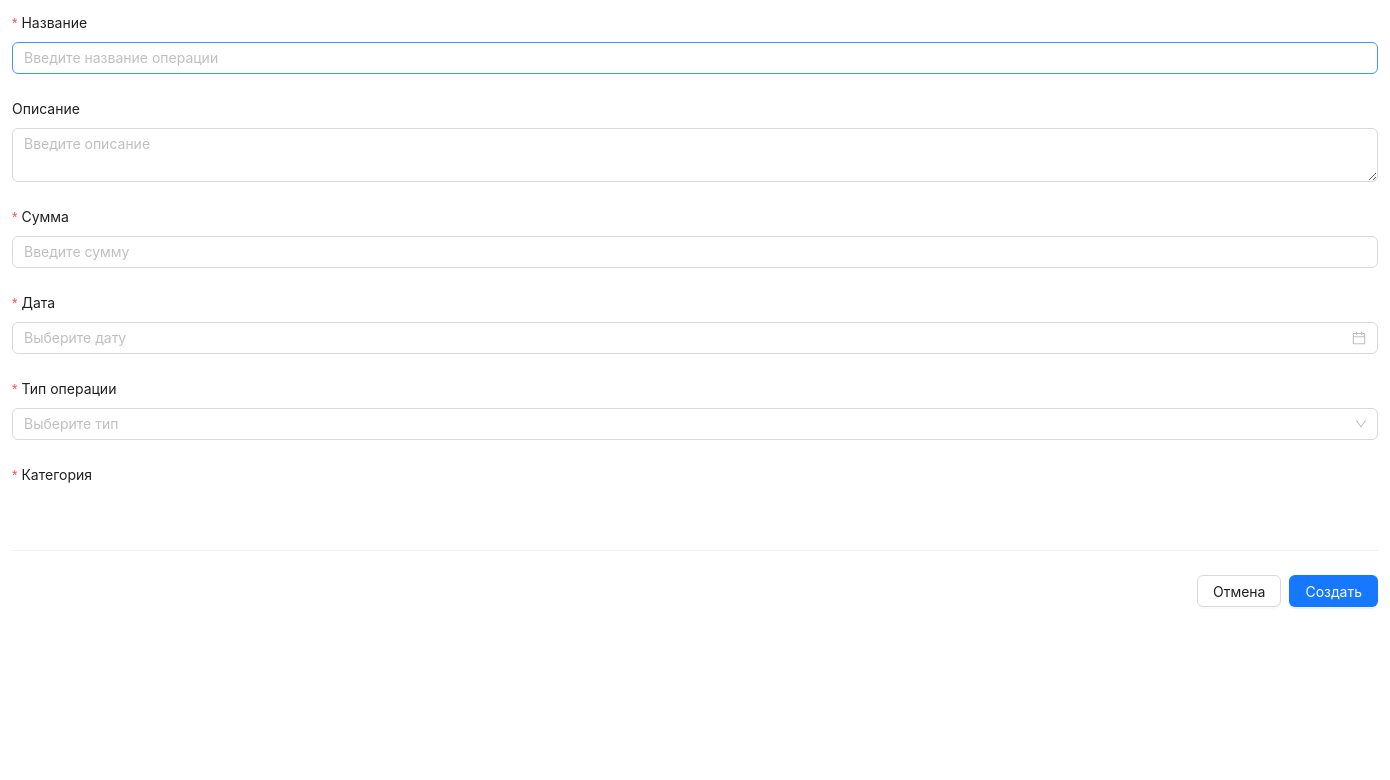
Test: OperationForm › Валидация формы › должен показывать ошибку при пустой дате
This screenshot has width=1390, height=780.
Step 1. Type "Тестовая операция" into the field labelled "Название" → (695, 58), box [12, 42, 1378, 74]
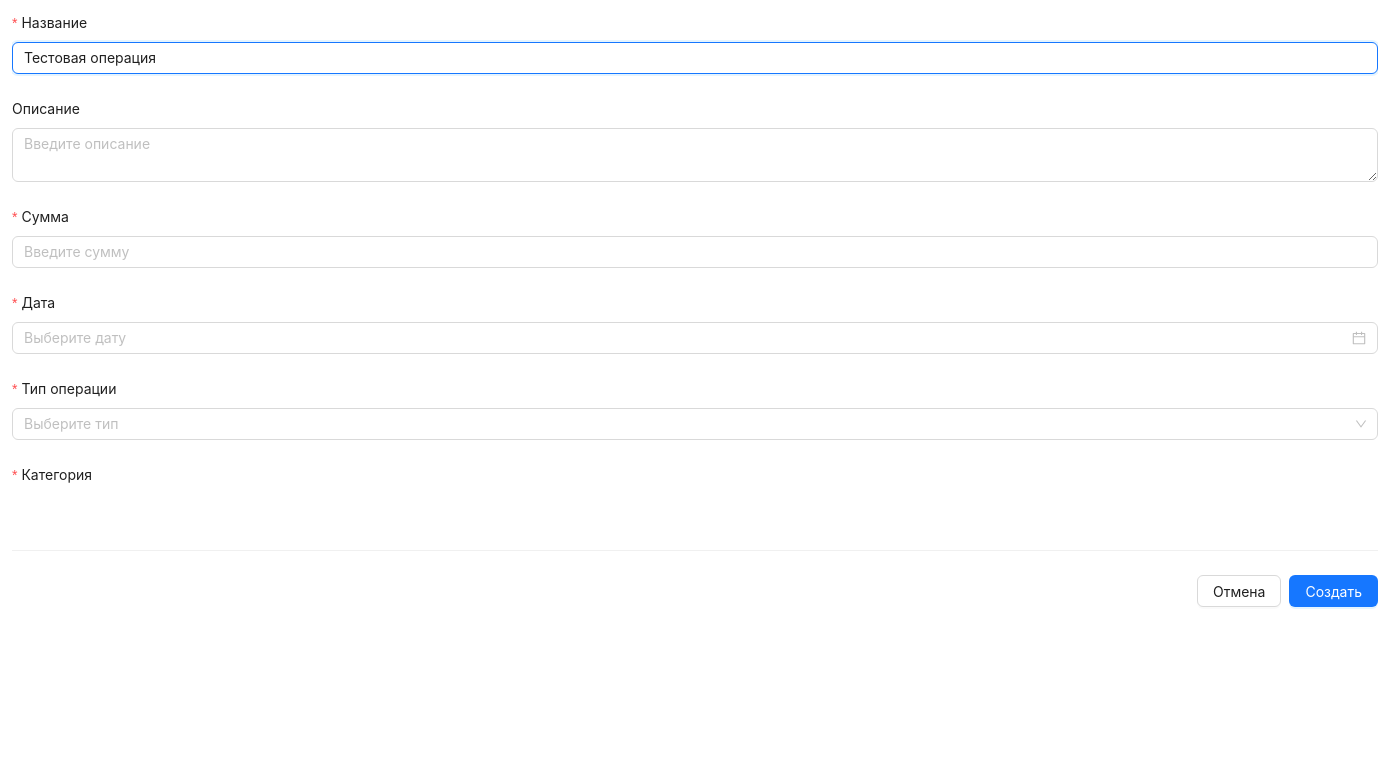
Step 2. Type "1000" into the number field labelled "Сумма" → (695, 252), box [12, 236, 1378, 268]
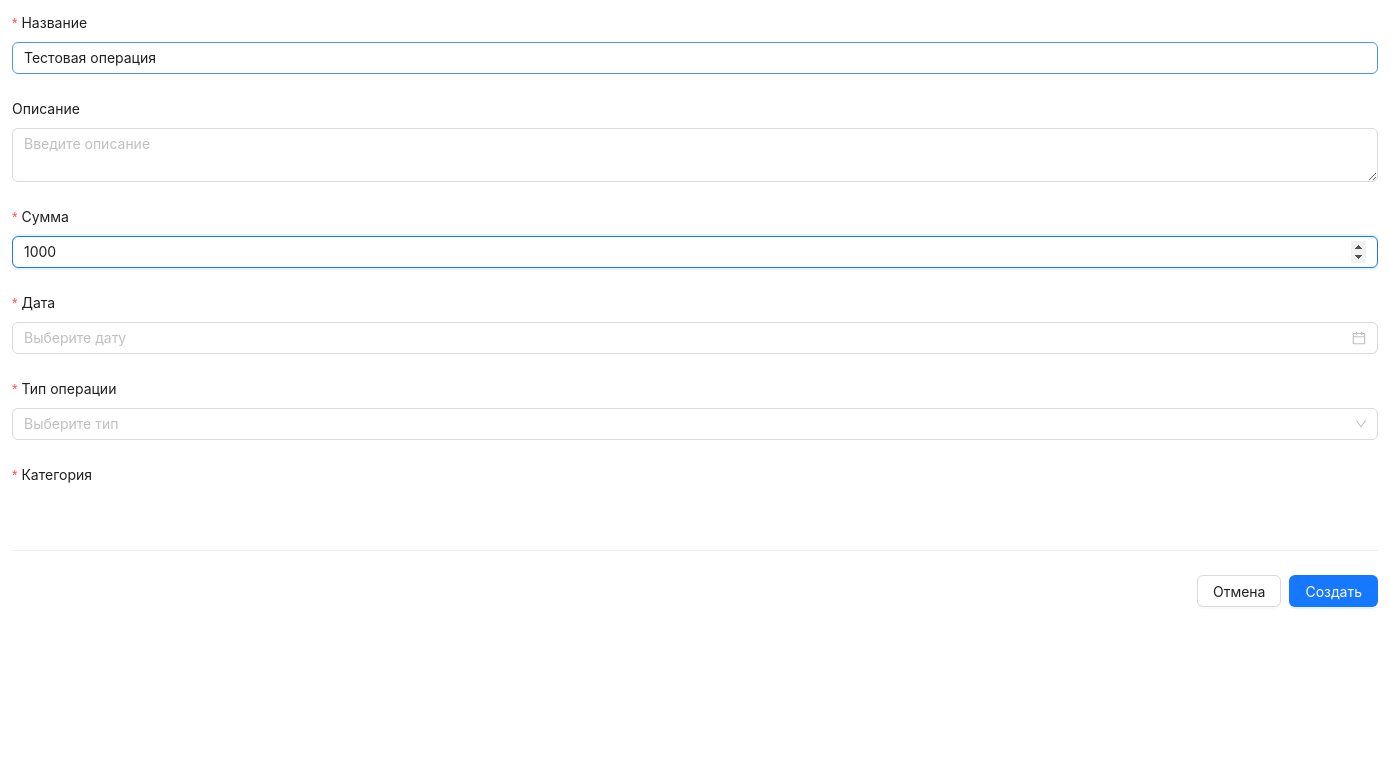
Step 3. Click the button "Создать" → (1334, 591), box [1290, 575, 1378, 607]
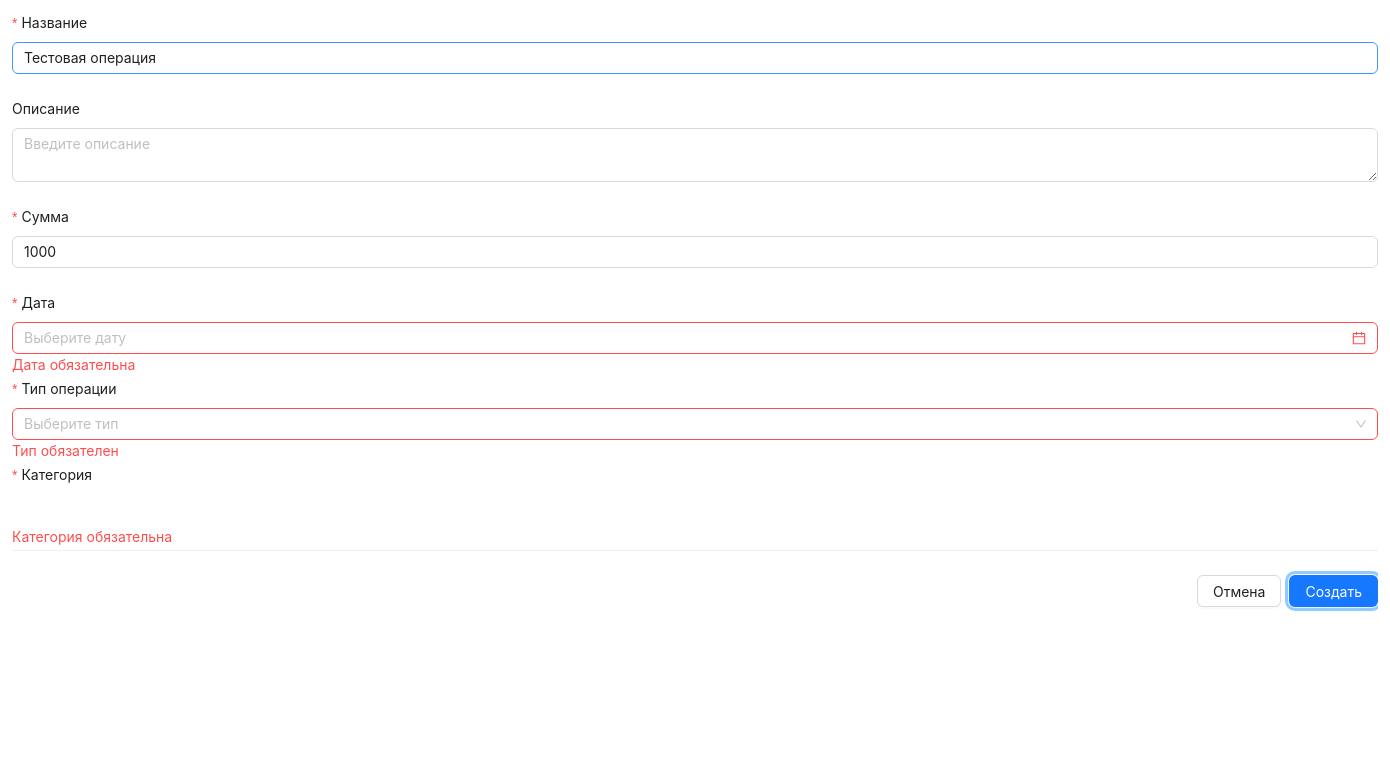
Expected: the text "Дата обязательна" is shown, [12, 356, 135, 373]
